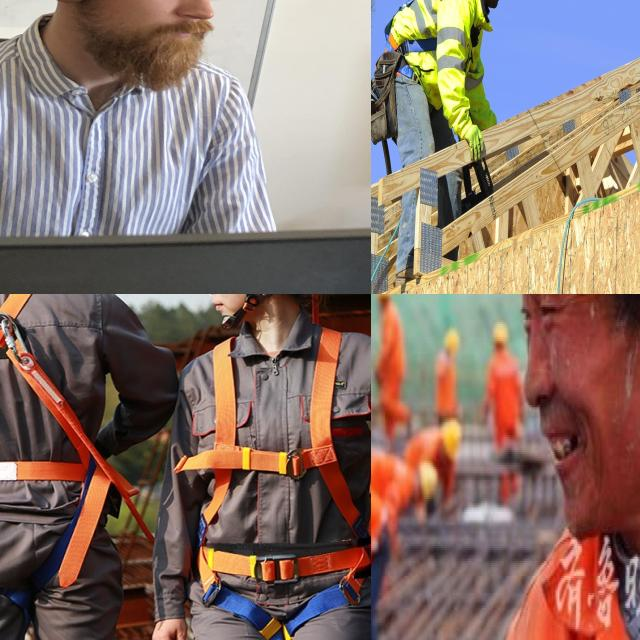Ear-protection: (17, 0, 238, 86)
Harness: (175, 340, 343, 640), (0, 294, 110, 631)
No_Glasses: (523, 294, 616, 337)
face_nomask: (525, 328, 640, 532), (476, 0, 509, 13)
hand_glove: (454, 116, 491, 172)
person: (371, 0, 544, 237)
vest: (386, 0, 494, 150)
